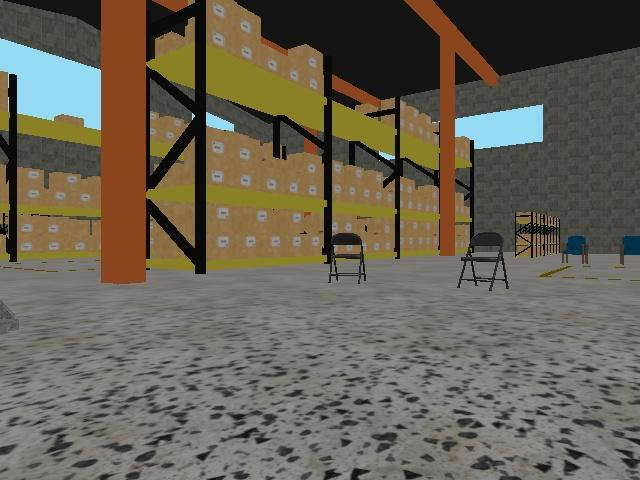chair: (457, 232, 509, 291), (328, 233, 366, 284), (561, 236, 591, 264), (619, 235, 640, 266)
